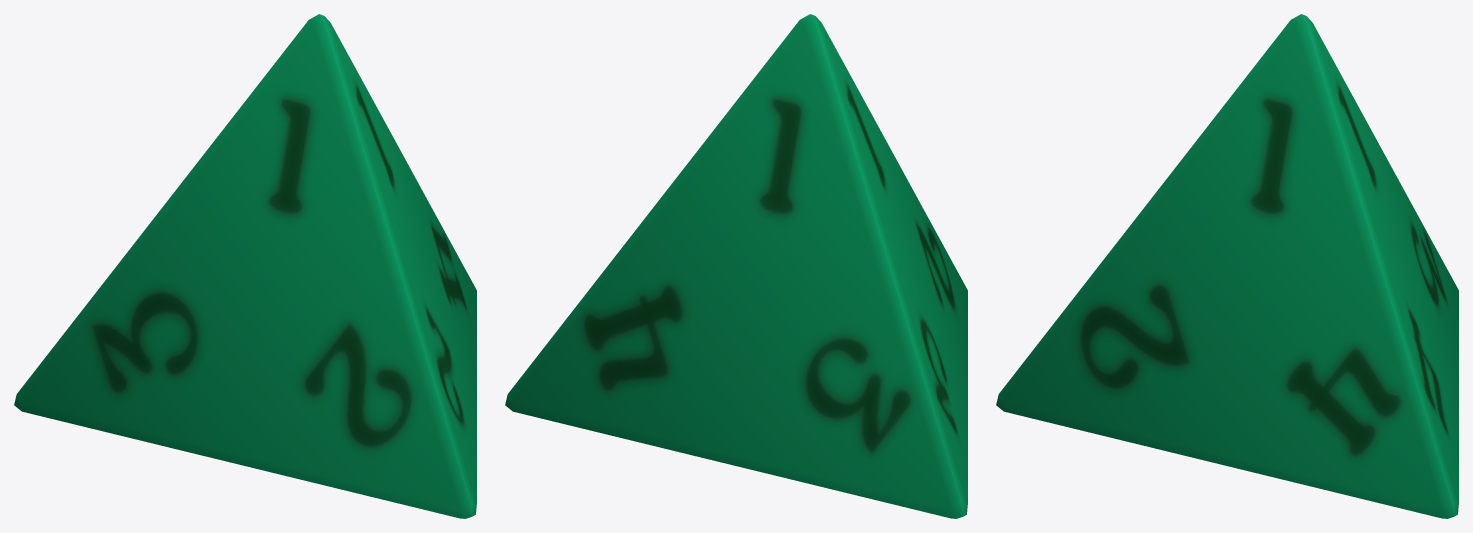
The model's file is D4_green.obj.
3 renders of one model, left to right at view 1: azimuth 30°, elevation 25°; view 2: azimuth 150°, elevation 25°; view 3: azimuth 270°, elevation 25°, orthographic.
Parts seen in each view (by area): view 1: D4_green; view 2: D4_green; view 3: D4_green.
Boxes of the visible parts, x1,y1,x2,y2 form: D4_green: [14, 14, 476, 518]; D4_green: [505, 14, 967, 518]; D4_green: [996, 14, 1458, 518].
Bounding box in the file's own units: 0.9591 × 0.7969 × 0.8396.
Materials: 1 (1 with a texture image).
